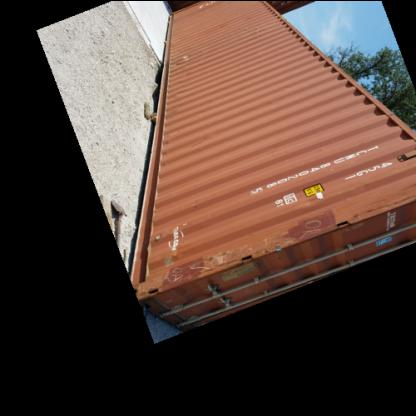Damage: (157, 243, 249, 292), (278, 210, 358, 247), (250, 13, 272, 42), (171, 48, 203, 66)
